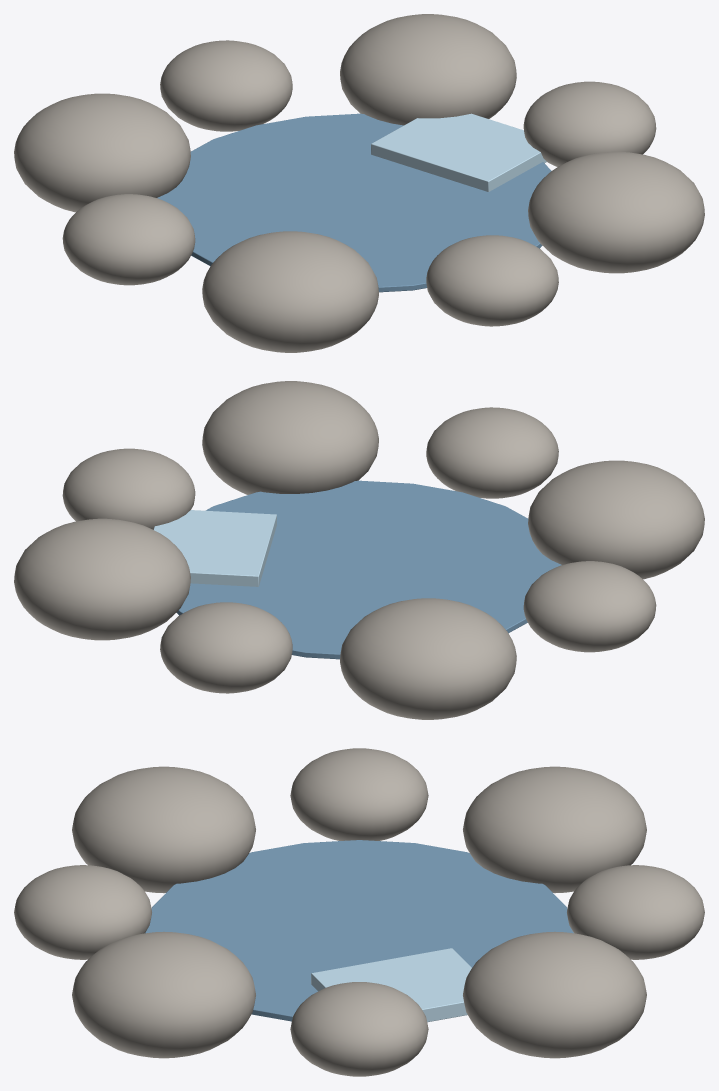
Rendered from SM_POI_FloodedSinkhole_IceTunnel.fbx.
3 renders of one model, top to bottom at view 1: azimuth 30°, elevation 25°; view 2: azimuth 150°, elevation 25°; view 3: azimuth 270°, elevation 25°, orthographic. The views are drawn at different scales.
Visible parts, largest first — view 1: SM_POI_FloodedSinkhole_IceTunnel; view 2: SM_POI_FloodedSinkhole_IceTunnel; view 3: SM_POI_FloodedSinkhole_IceTunnel.
Boxes of the visible parts, x1,y1,x2,y2 form: SM_POI_FloodedSinkhole_IceTunnel: (14,14,704,352); SM_POI_FloodedSinkhole_IceTunnel: (14,381,704,719); SM_POI_FloodedSinkhole_IceTunnel: (14,748,704,1076).
Size of what is drawn, in the model's own units: 4.5 by 0.72 by 4.5.
